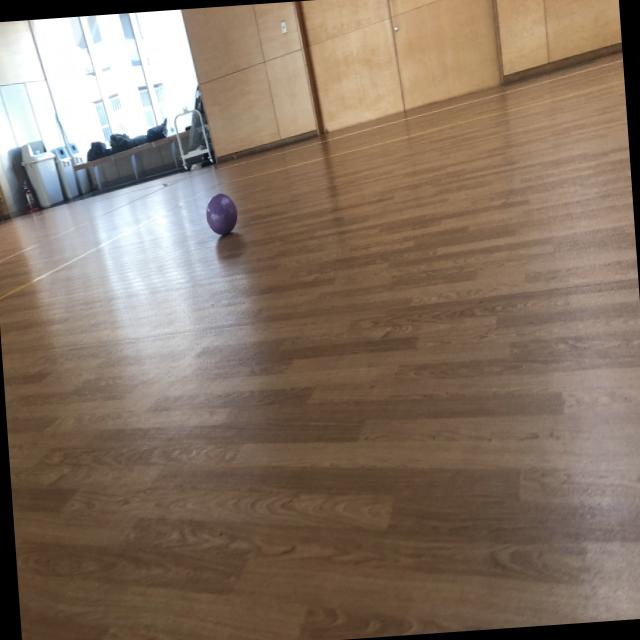purple_ball: (206, 192, 238, 237)
